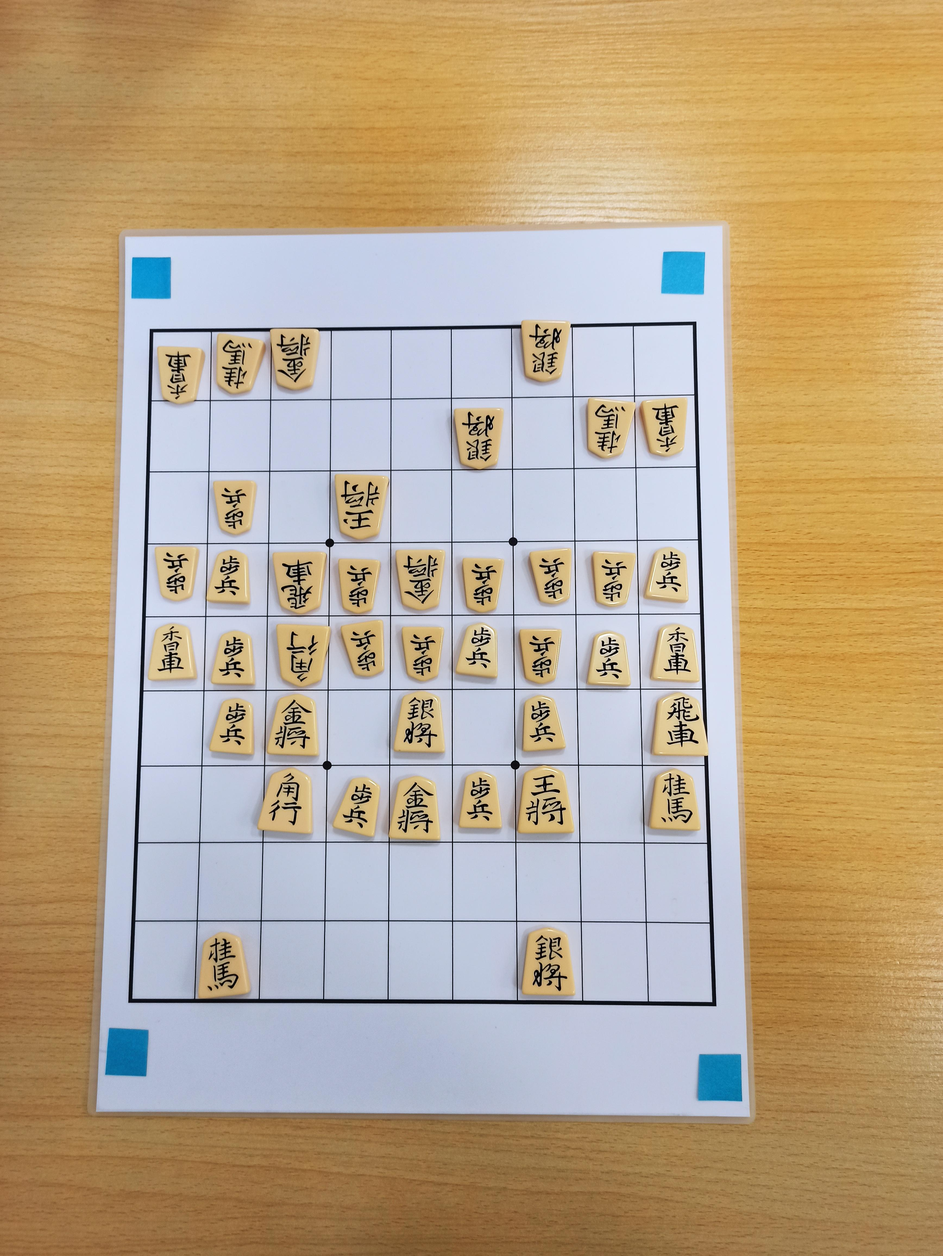board: (132, 323, 715, 1003)
